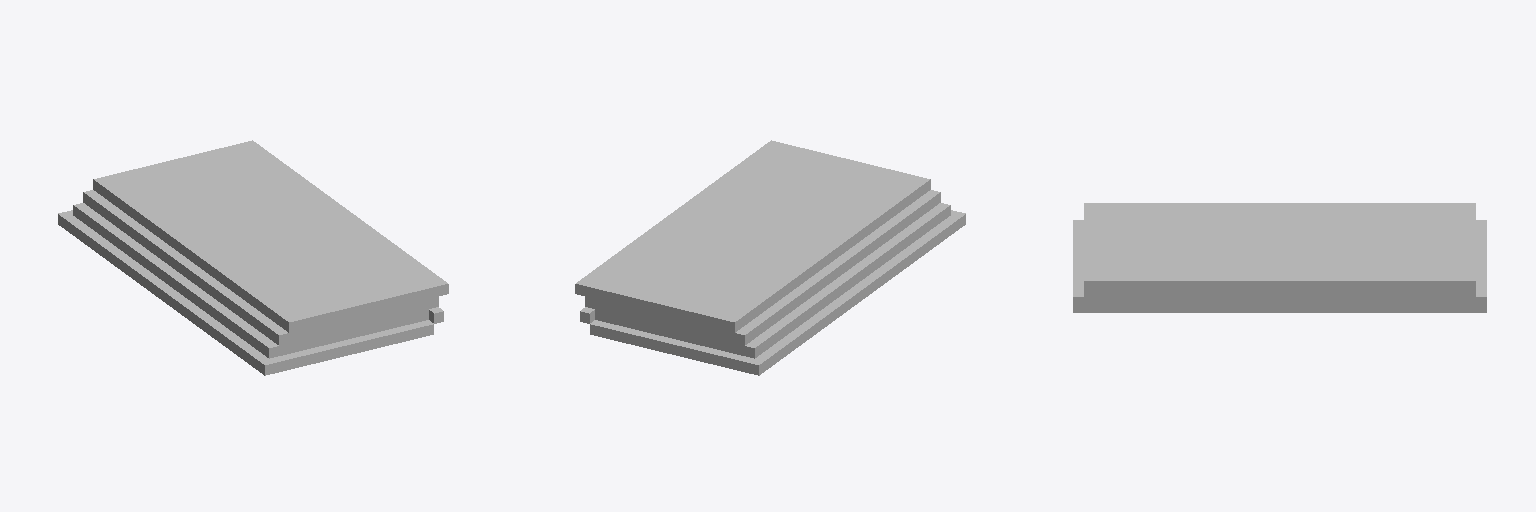
File: SL_WB_LeftPage.obj
The picture shows the model from 3 angles: view 1: azimuth 30°, elevation 25°; view 2: azimuth 150°, elevation 25°; view 3: azimuth 270°, elevation 25°; orthographic projection.
Parts seen in each view (by area): view 1: SL_WB_LeftPage; view 2: SL_WB_LeftPage; view 3: SL_WB_LeftPage.
Part boxes in pixels (left/top/right/bottom): SL_WB_LeftPage: left=58, top=140, right=448, bottom=375; SL_WB_LeftPage: left=575, top=140, right=965, bottom=375; SL_WB_LeftPage: left=1073, top=203, right=1486, bottom=312.
Size of the model in its own units: 19 by 4 by 36.